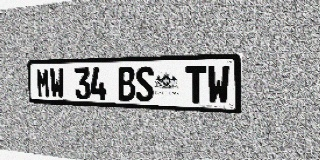3: (74, 67, 91, 100)
4: (90, 67, 107, 100)
B: (118, 67, 135, 101)
M: (36, 68, 50, 98)
S: (135, 66, 154, 102)
T: (186, 65, 206, 104)
W: (207, 65, 230, 105), (49, 68, 64, 99)
